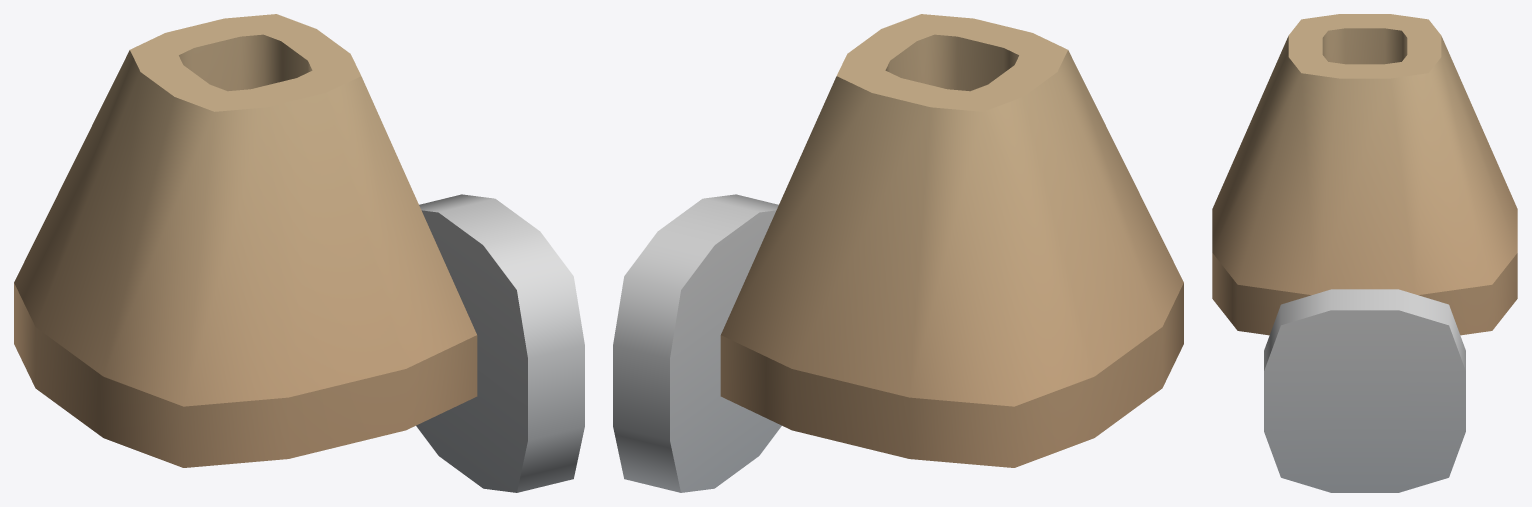
The model's file is lamp-standard-wall (%wall).glb.
3 views of the same model, side by side, from view 1: azimuth 30°, elevation 25°; view 2: azimuth 150°, elevation 25°; view 3: azimuth 270°, elevation 25° (orthographic). The views are drawn at different scales.
Visible parts, largest first — view 1: lamp-standard-wall (%wall); view 2: lamp-standard-wall (%wall); view 3: lamp-standard-wall (%wall).
Boxes of the visible parts, box(x1,y1,x2,y2) form: lamp-standard-wall (%wall): box(14, 14, 584, 492); lamp-standard-wall (%wall): box(613, 14, 1183, 492); lamp-standard-wall (%wall): box(1212, 14, 1517, 492).
Bounding box in the file's own units: 0.2863 × 0.2818 × 0.225.
